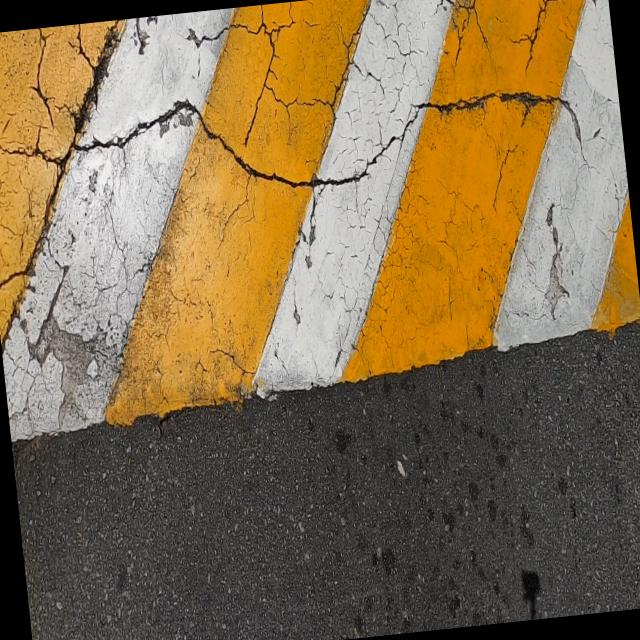Retak-Melintang: (76, 81, 586, 198)
